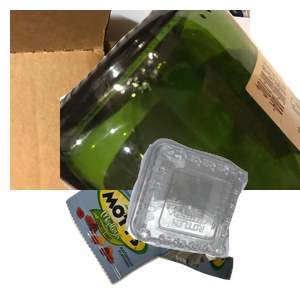cardboard: (10, 10, 250, 190)
glass: (60, 10, 300, 190)
plastic: (123, 136, 300, 300)
trash: (63, 137, 289, 300)
